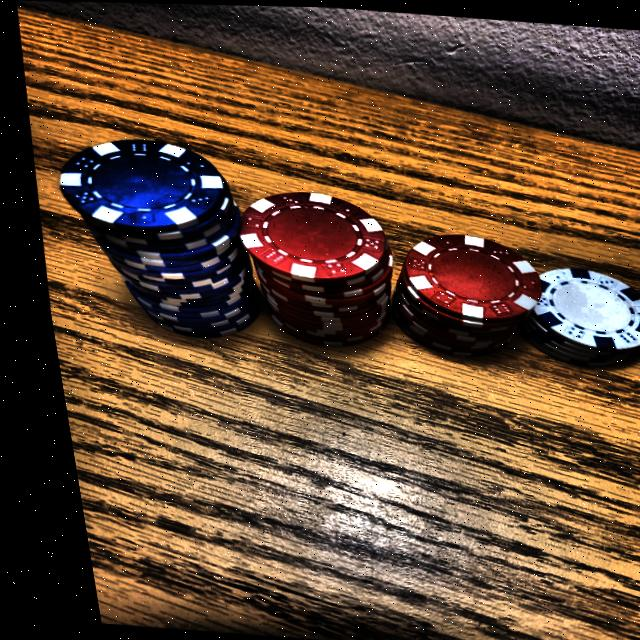Chip: (33, 117, 284, 365), (217, 167, 407, 367), (367, 209, 556, 372), (488, 238, 640, 385)
